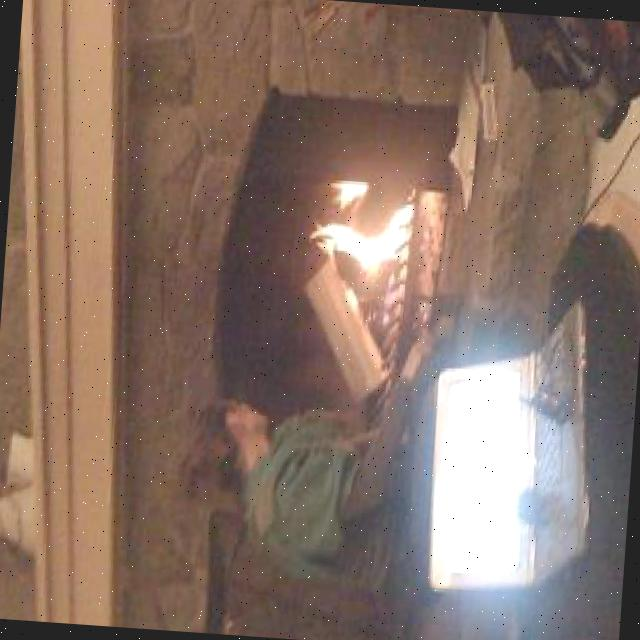fire: (296, 165, 420, 302)
